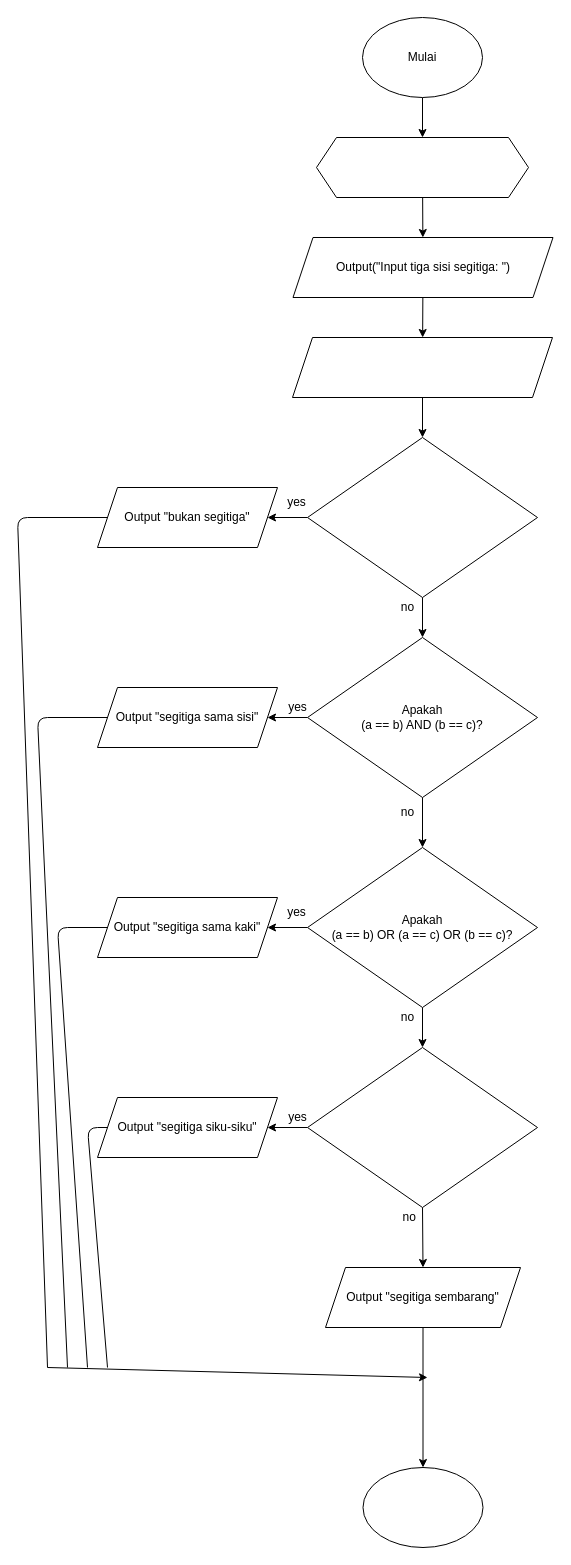
Some shapes in this 571 by 1565 pixel diagram are drawn without their labels. Each missing label, with the centre of its shape:
"Apakah (a + b > c) AND (a + c > b) AND (b + c > a)?" belongs at (x=422, y=517).
"Apakah (a*a + b*b == c*c) OR (a*a + c*c == b*b) OR (b*b + c*c == a*a)?" belongs at (x=422, y=1127).
"Input(a, b, c)" belongs at (x=422, y=367).
"int a, b, c" belongs at (x=422, y=167).
"Selesai" belongs at (x=422, y=1507).
